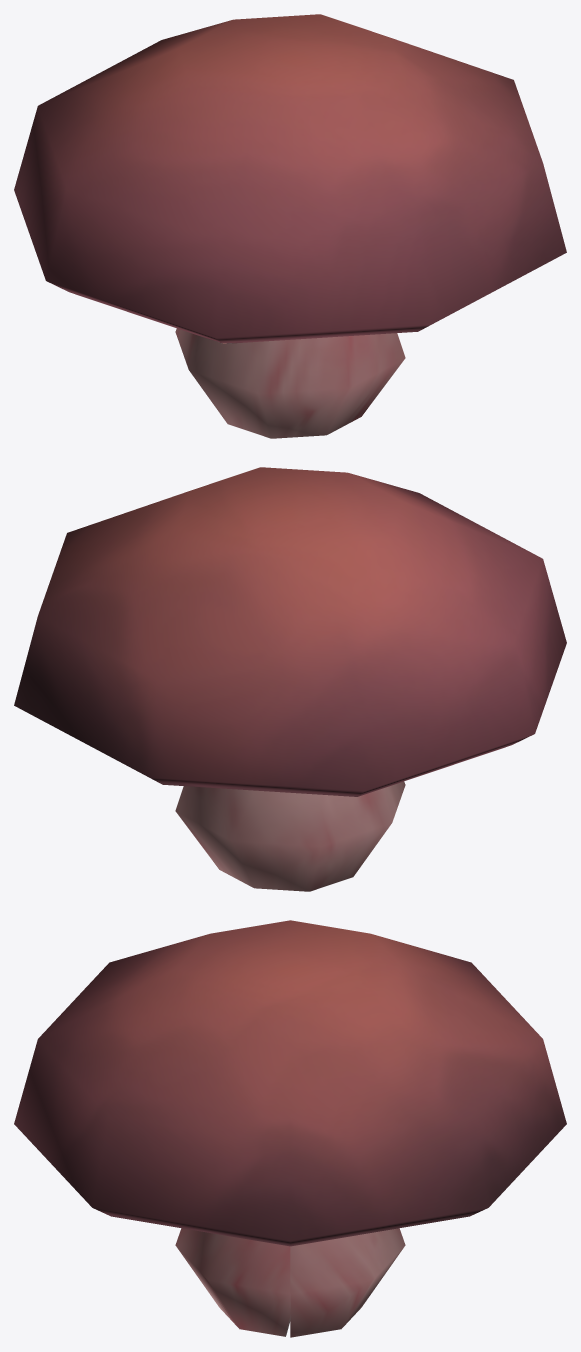
The model's file is PROP_MiniShroom_1.fbx.
3 renders of one model, top to bottom at view 1: azimuth 30°, elevation 25°; view 2: azimuth 150°, elevation 25°; view 3: azimuth 270°, elevation 25°, orthographic. The views are drawn at different scales.
Visible parts, largest first — view 1: PROP_MiniShroom_1; view 2: PROP_MiniShroom_1; view 3: PROP_MiniShroom_1.
Boxes of the visible parts, x1,y1,x2,y2 form: PROP_MiniShroom_1: [14, 14, 566, 438]; PROP_MiniShroom_1: [14, 467, 566, 891]; PROP_MiniShroom_1: [14, 920, 566, 1337].
Bounding box in the file's own units: 56.73 × 38.49 × 56.73.
Materials: 1 (1 with a texture image).
